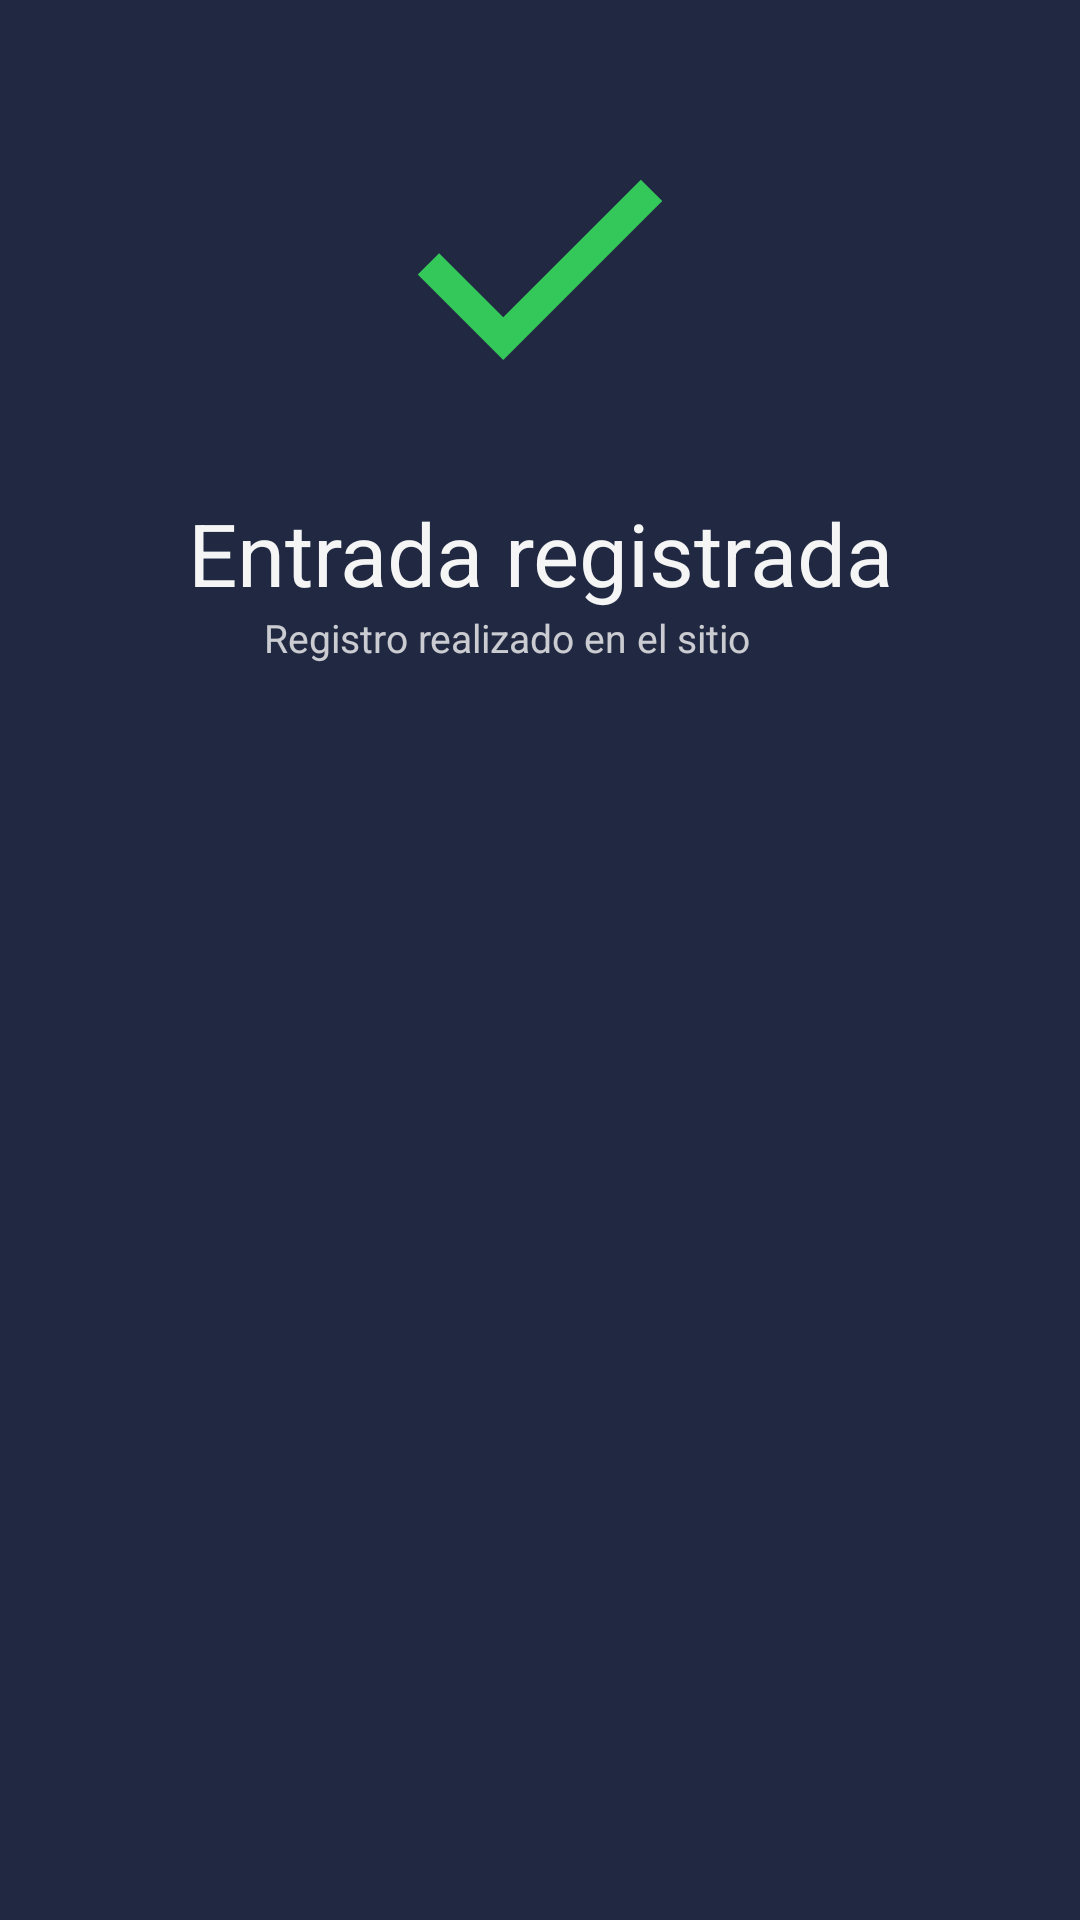

Named icons in this screenshot (1080 × 1920) and their centers, [x,y]:
verificado: [540,270]
